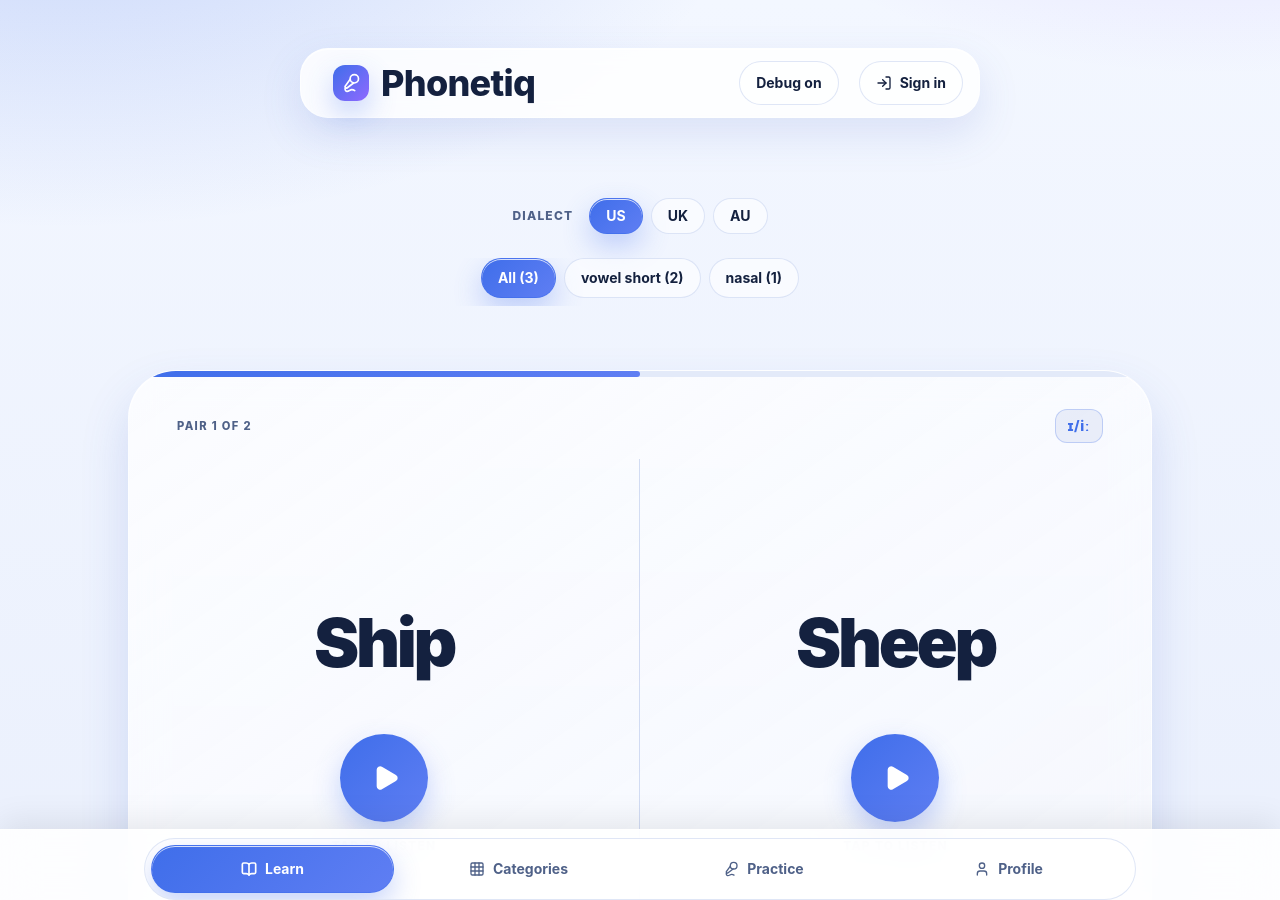
it: App › renders categories stage when Categories mode is selected
The width and height of the screenshot is (1280, 900).
Expected: the text "Pair 1 of 2" is shown, [177,418,252,434]
Click the button "Categories": (518, 869) [398,845,639,893]
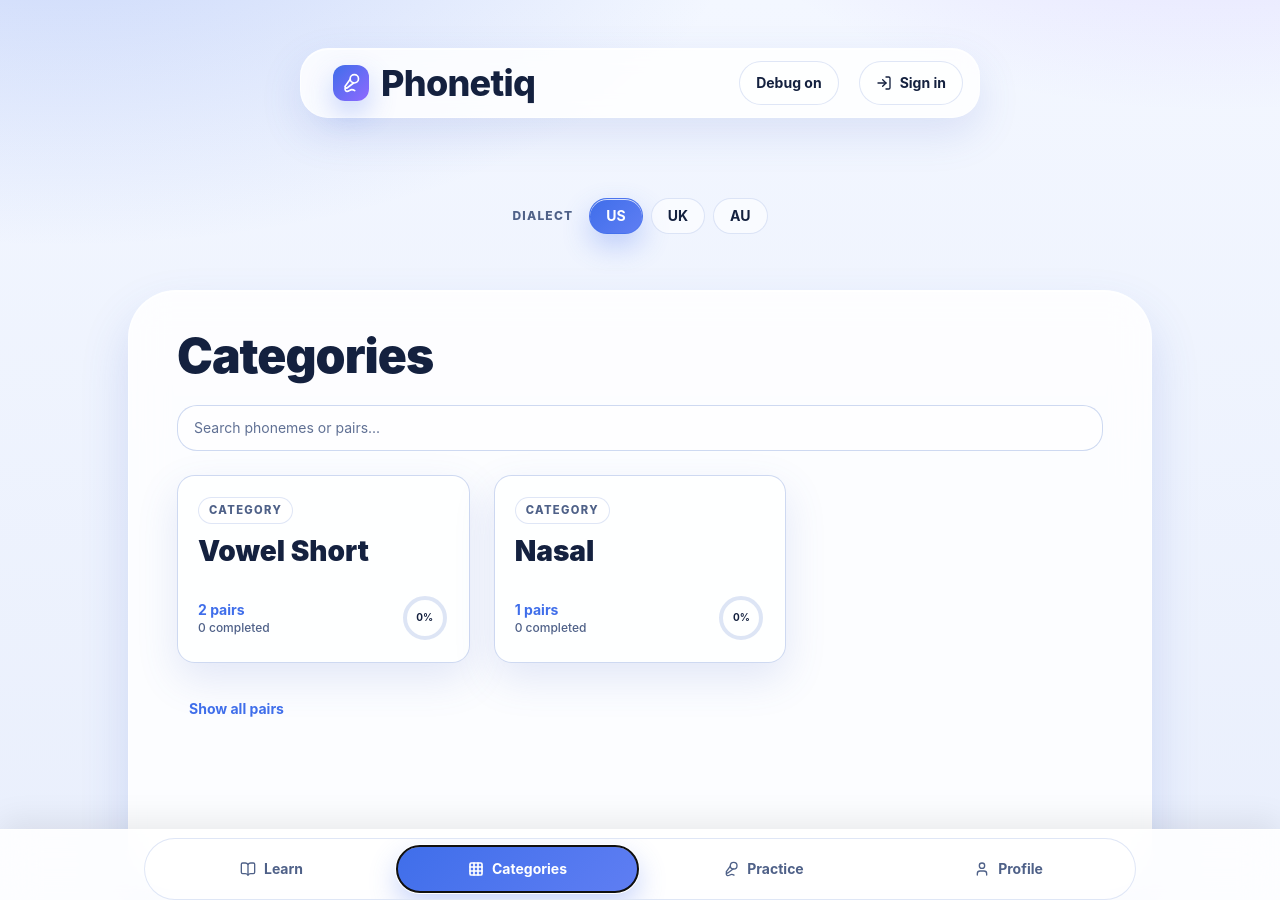
Expected: the element with test id "categories-stage" is shown, [128,290,1152,890]
Expected: the element with test id "category-filter" is gone
